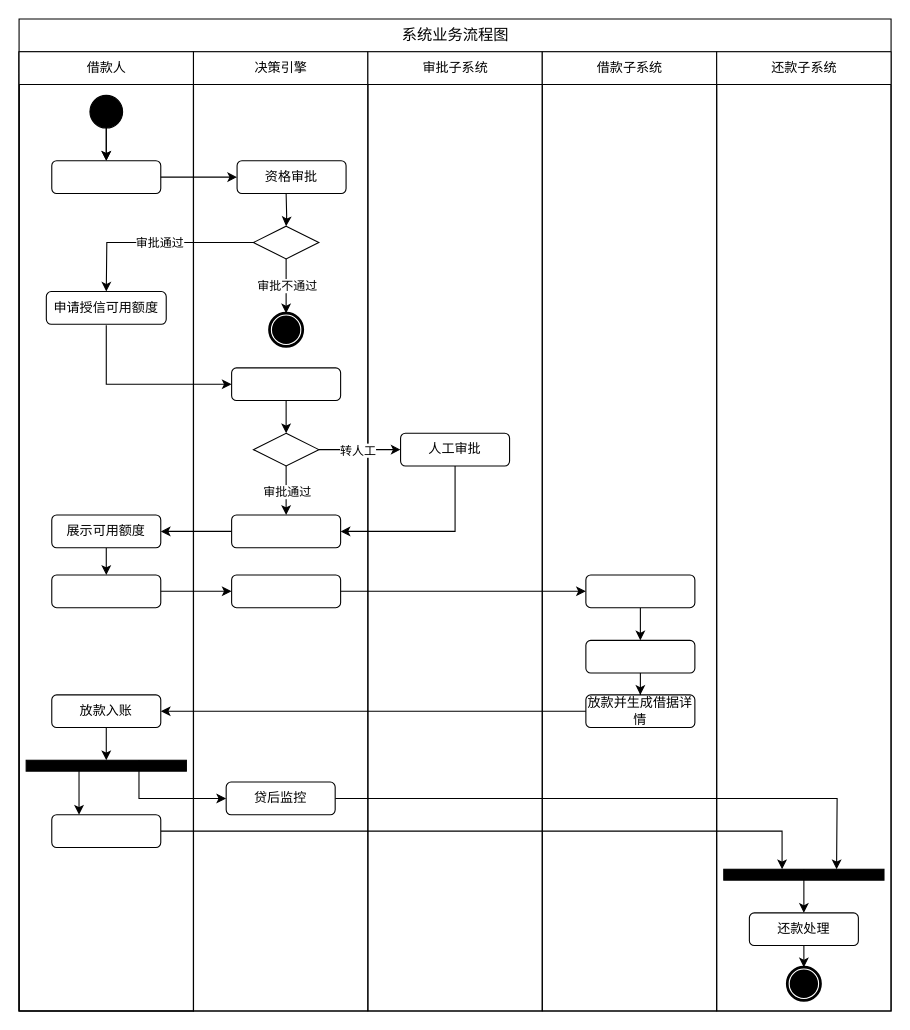
Image size: 910x1030. Some labels were removed from this diagram. Here are the shapes that lost their labels. From the top down, the centre of each, then its label:
At point (106, 176): "开户申请".
At point (286, 384): "反欺诈、风险决策".
At point (286, 531): "信用等级评估".
At point (106, 591): "借款预申请".
At point (286, 591): "自动化校验".
At point (640, 591): "借款试算".
At point (640, 656): "生成还款计划".
At point (106, 830): "还款（分类型）".
